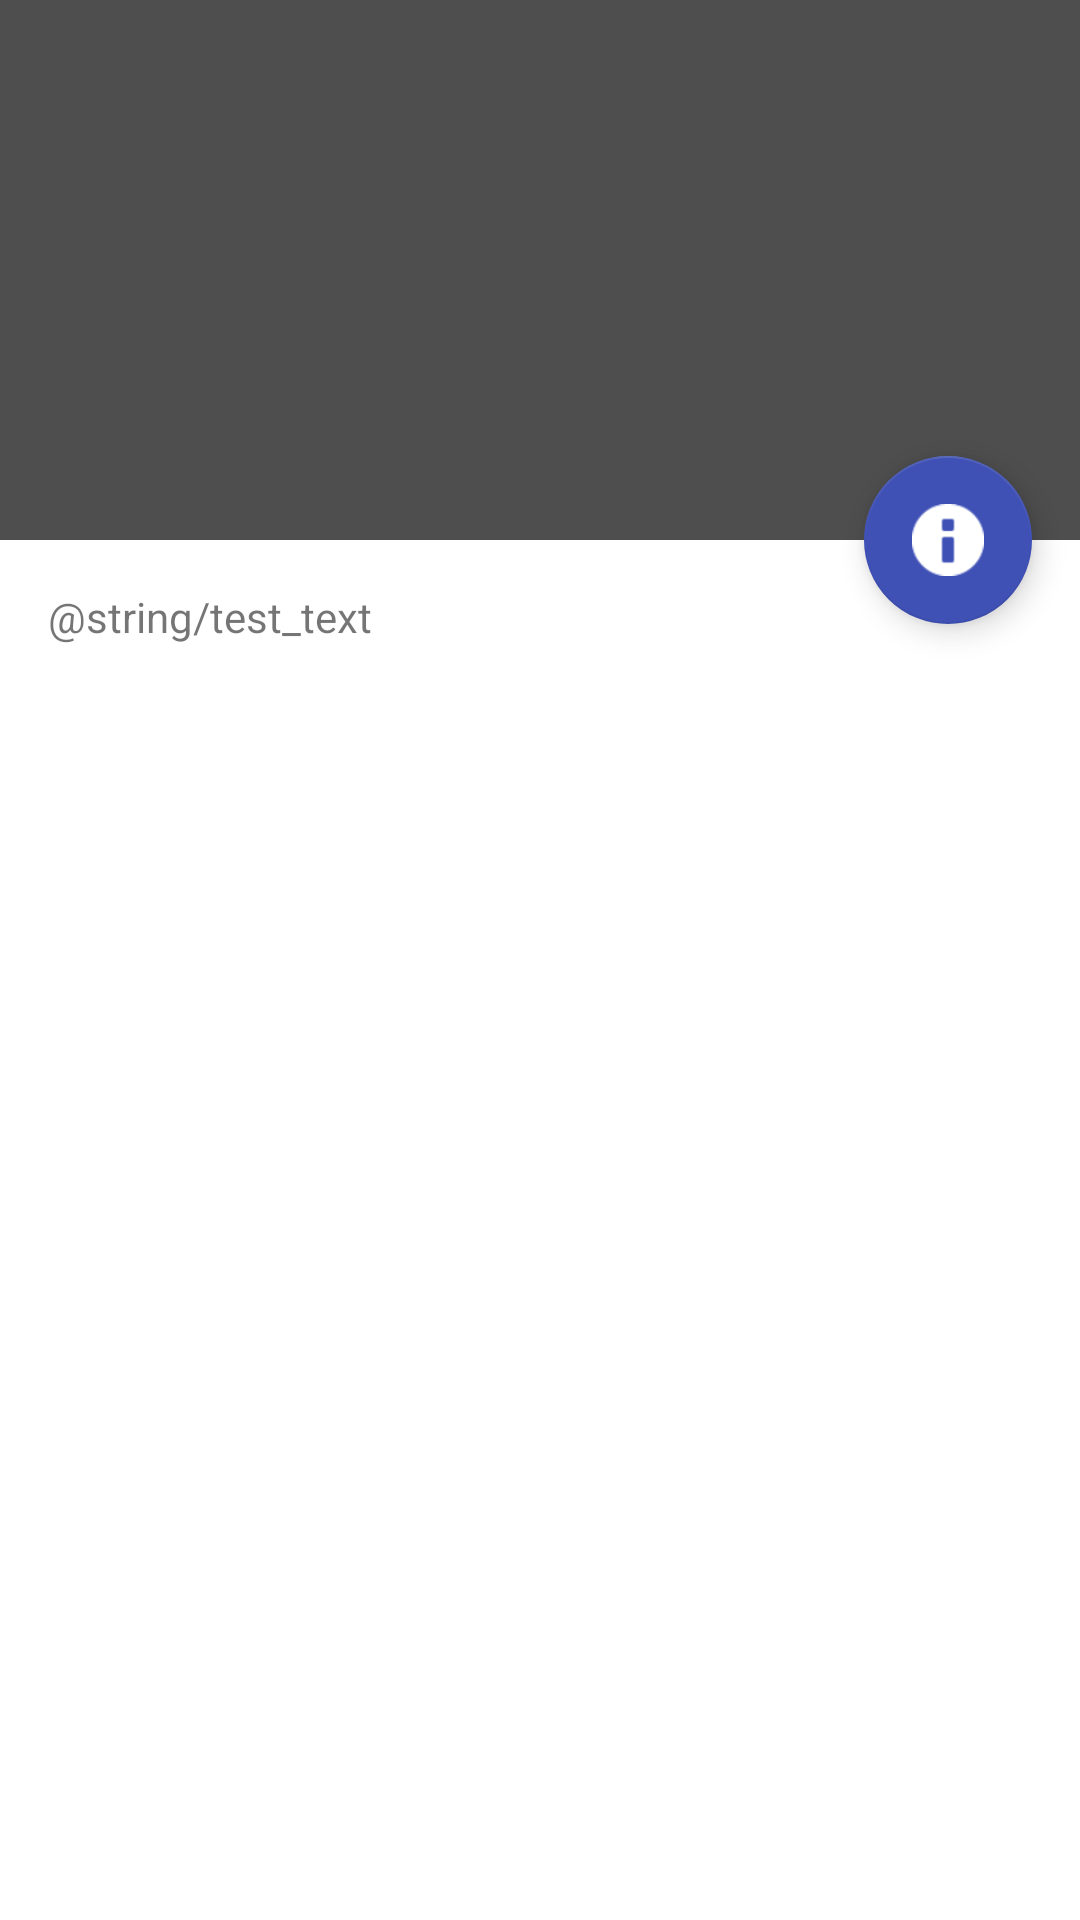

Point at icon controls on the screen. Image size 1080px x 1920px, points as point (x, y).
info: point (948, 540)
